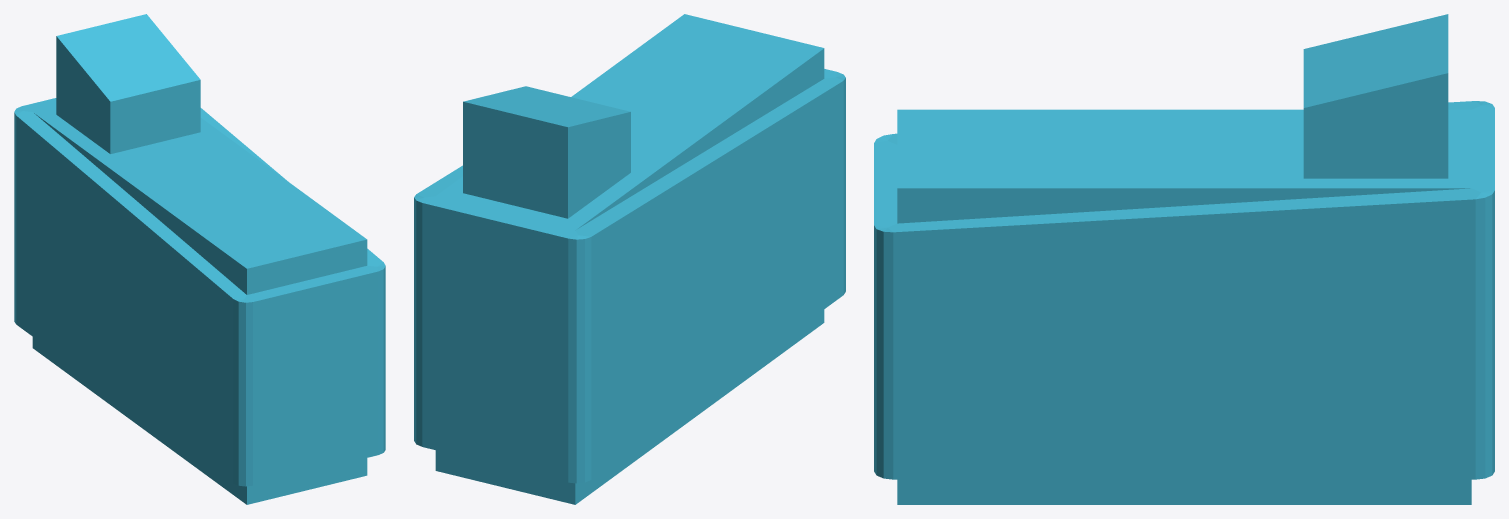
The picture shows the model from 3 angles, left to right: view 1: azimuth 30°, elevation 25°; view 2: azimuth 150°, elevation 25°; view 3: azimuth 270°, elevation 25°; orthographic projection. The views are drawn at different scales.
Parts seen in each view (by area): view 1: Cube.001; view 2: Cube.001; view 3: Cube.001.
Boxes of the visible parts, x1=… form: Cube.001: x1=14, y1=14, x2=385, y2=504; Cube.001: x1=414, y1=14, x2=845, y2=504; Cube.001: x1=874, y1=14, x2=1494, y2=504.
Bounding box in the file's own units: 60 × 120 × 160.
